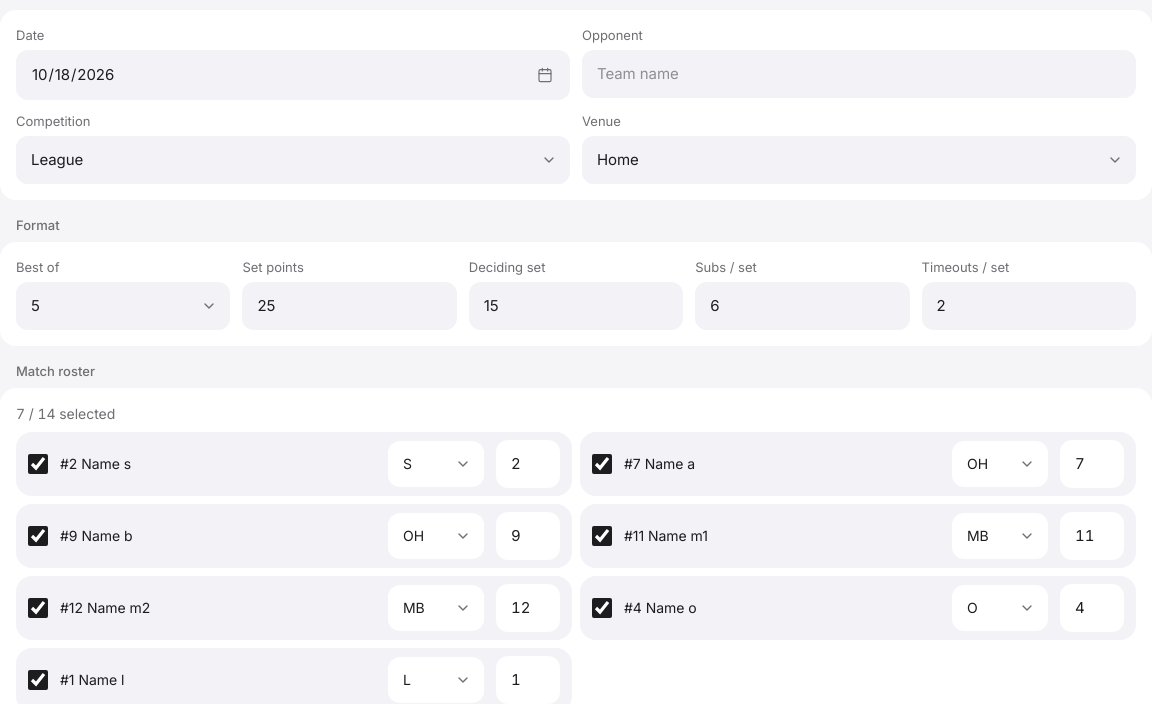
MatchSetupForm › shows Saved immediately, without waiting for the server write
Expected: the text "#7 Name a" is shown, [624, 455, 695, 472]
Type "Rivals" into the field labelled "Opponent" at (859, 74), box [582, 50, 1136, 98]
(page scrolled)
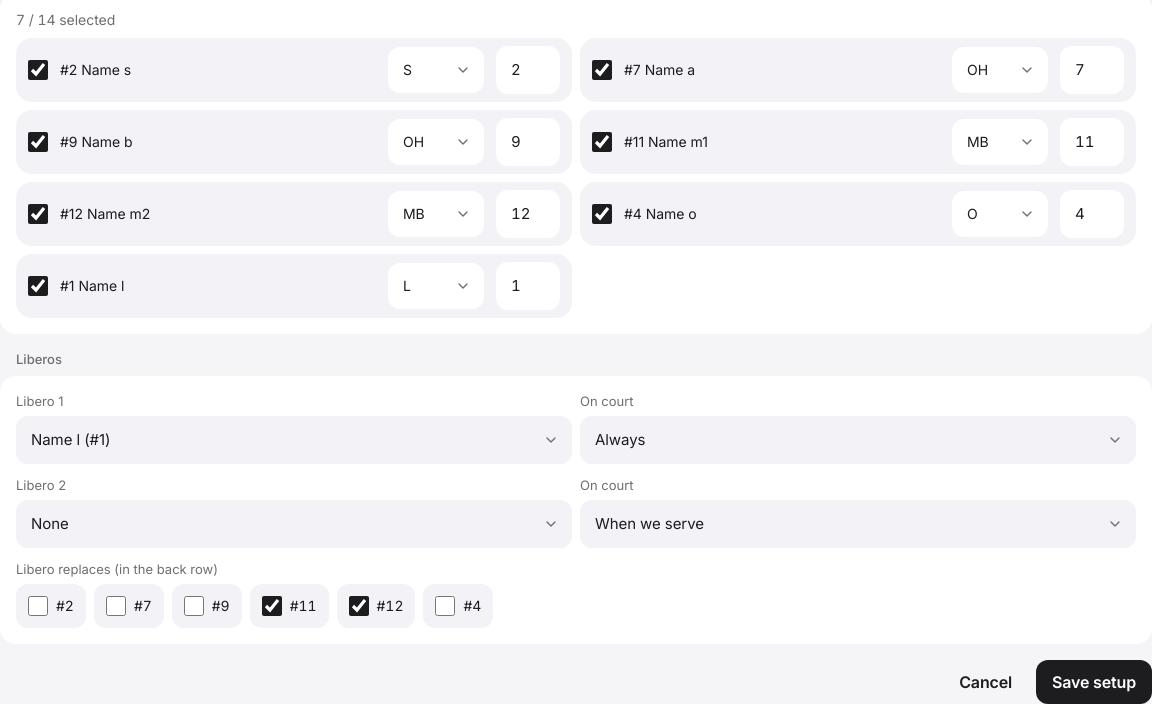
Click the button "Save setup" at (1094, 682), box [1036, 660, 1151, 703]
(page scrolled)
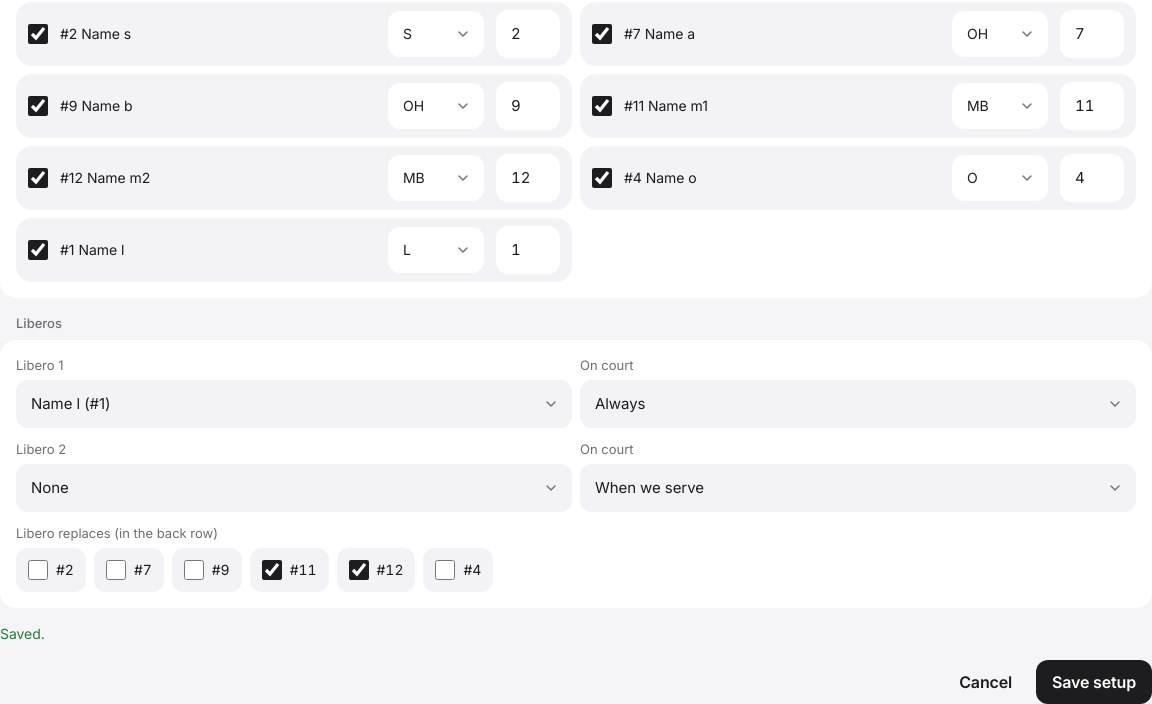
Now the text "Saved." is shown, box [0, 625, 45, 642]
